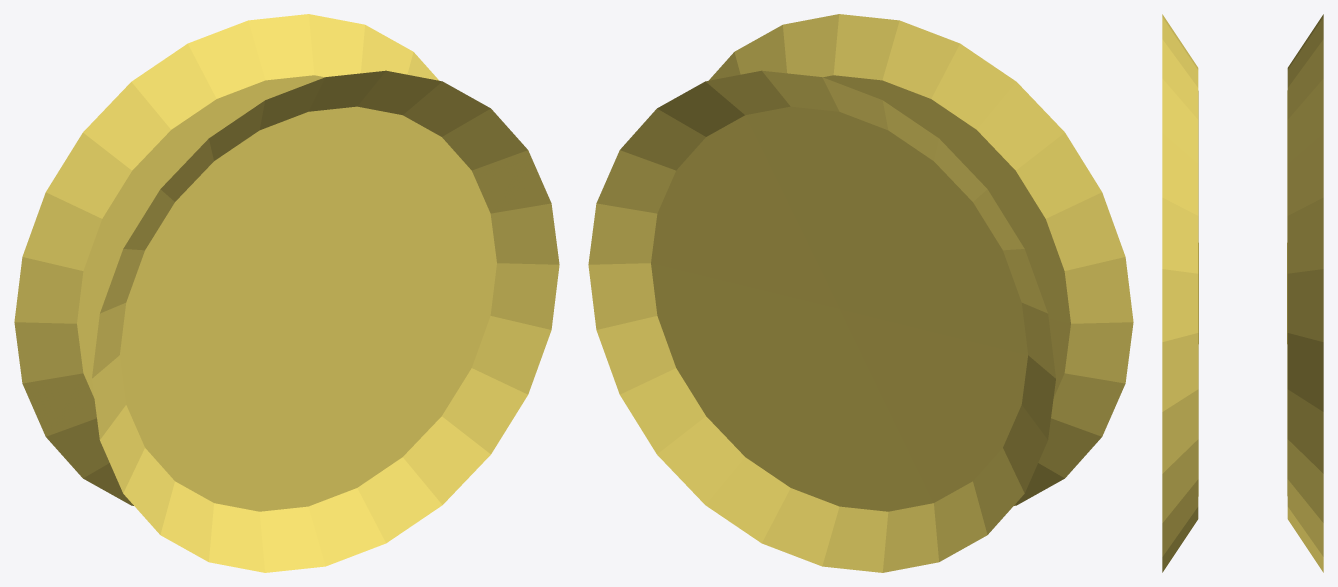
The model's file is left_hubcap.dae.
3 views of the same model, side by side, from view 1: azimuth 30°, elevation 25°; view 2: azimuth 150°, elevation 25°; view 3: azimuth 270°, elevation 25° (orthographic). The views are drawn at different scales.
Visible parts, largest first — view 1: left_hub; view 2: left_hub; view 3: left_hub.
Part boxes in pixels (x1,y1,x2,y2): left_hub: (14, 14, 559, 572); left_hub: (588, 14, 1133, 572); left_hub: (1162, 14, 1323, 572).
Size of the model in its own units: 0.1045 by 0.03 by 0.1045.
